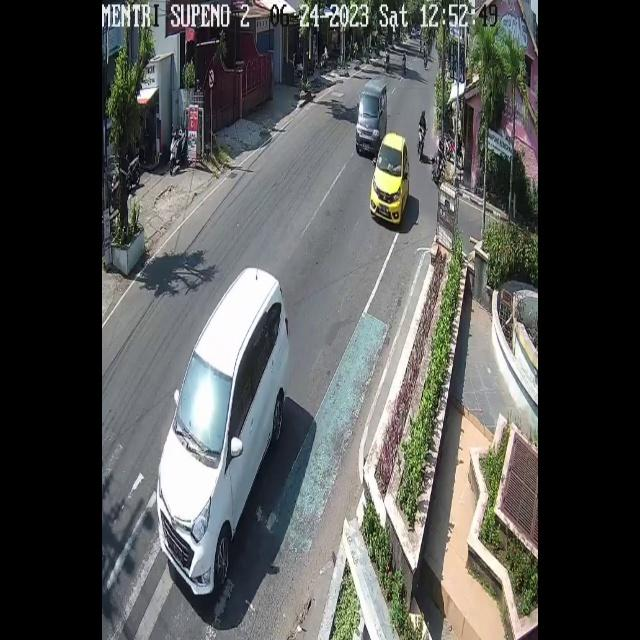bus: (433, 146, 442, 182), (418, 124, 426, 162)
motorcycle: (158, 268, 290, 596), (371, 131, 410, 222), (357, 80, 388, 159)
